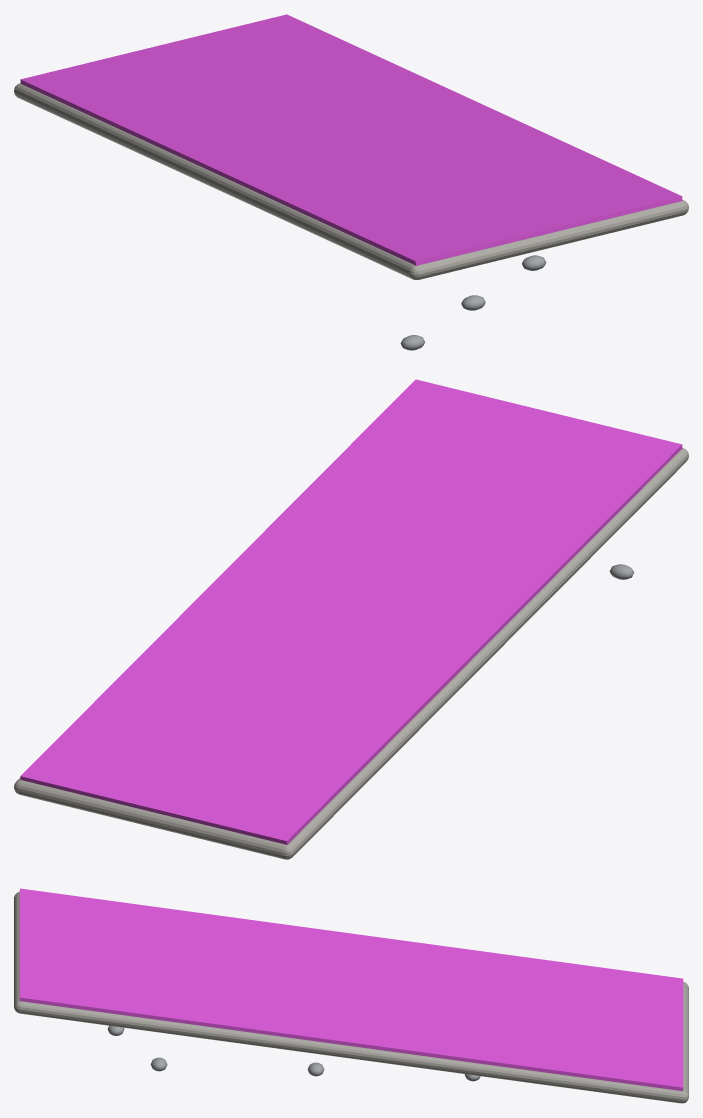
3 views of the same model, one above another, from view 1: azimuth 30°, elevation 25°; view 2: azimuth 150°, elevation 25°; view 3: azimuth 270°, elevation 25° (orthographic). The views are drawn at different scales.
Parts seen in each view (by area): view 1: NAV_MASK_FOREST_PATH_GRAVEL_SLOPE_UP_SLOPE, LOD0_FOREST_PATH_GRAVEL_SLOPE_UP_Slope; view 2: NAV_MASK_FOREST_PATH_GRAVEL_SLOPE_UP_SLOPE, LOD0_FOREST_PATH_GRAVEL_SLOPE_UP_Slope; view 3: NAV_MASK_FOREST_PATH_GRAVEL_SLOPE_UP_SLOPE, LOD0_FOREST_PATH_GRAVEL_SLOPE_UP_Slope.
Part boxes in pixels (x1,y1,x2,y2): NAV_MASK_FOREST_PATH_GRAVEL_SLOPE_UP_SLOPE: (20, 14, 682, 265); LOD0_FOREST_PATH_GRAVEL_SLOPE_UP_Slope: (14, 83, 688, 279); NAV_MASK_FOREST_PATH_GRAVEL_SLOPE_UP_SLOPE: (20, 379, 682, 844); LOD0_FOREST_PATH_GRAVEL_SLOPE_UP_Slope: (14, 448, 688, 859); NAV_MASK_FOREST_PATH_GRAVEL_SLOPE_UP_SLOPE: (19, 888, 683, 1091); LOD0_FOREST_PATH_GRAVEL_SLOPE_UP_Slope: (14, 892, 688, 1103).
Size of what is drawn, in the model's own units: 3.2 by 1.38 by 8.
